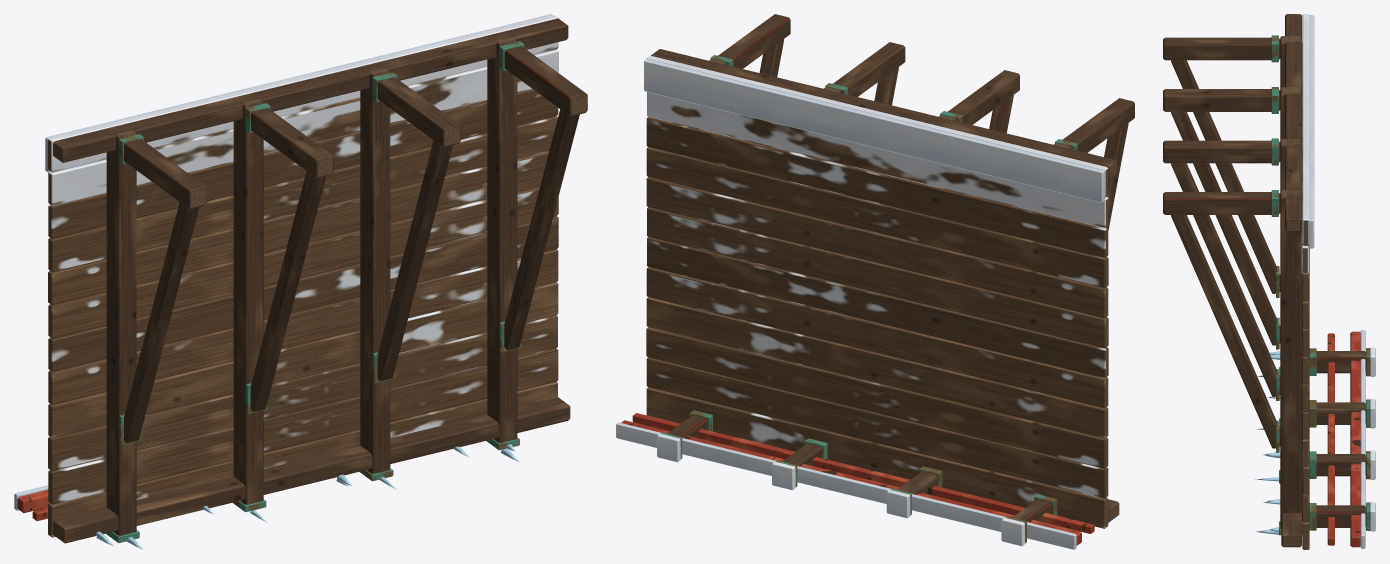
The picture shows the model from 3 angles, left to right: view 1: azimuth 30°, elevation 25°; view 2: azimuth 150°, elevation 25°; view 3: azimuth 270°, elevation 25°; orthographic projection. The views are drawn at different scales.
Visible parts, largest first — view 1: SM_Tripo_FrostPlankRoadStraight_LOD0; view 2: SM_Tripo_FrostPlankRoadStraight_LOD0; view 3: SM_Tripo_FrostPlankRoadStraight_LOD0.
Part boxes in pixels (<box>): SM_Tripo_FrostPlankRoadStraight_LOD0: <box>14,14,587,549</box>; SM_Tripo_FrostPlankRoadStraight_LOD0: <box>616,14,1134,549</box>; SM_Tripo_FrostPlankRoadStraight_LOD0: <box>1163,14,1375,549</box>.
Bounding box in the file's own units: 8 × 6.21 × 3.49.
Materials: 1 (1 with a texture image).
